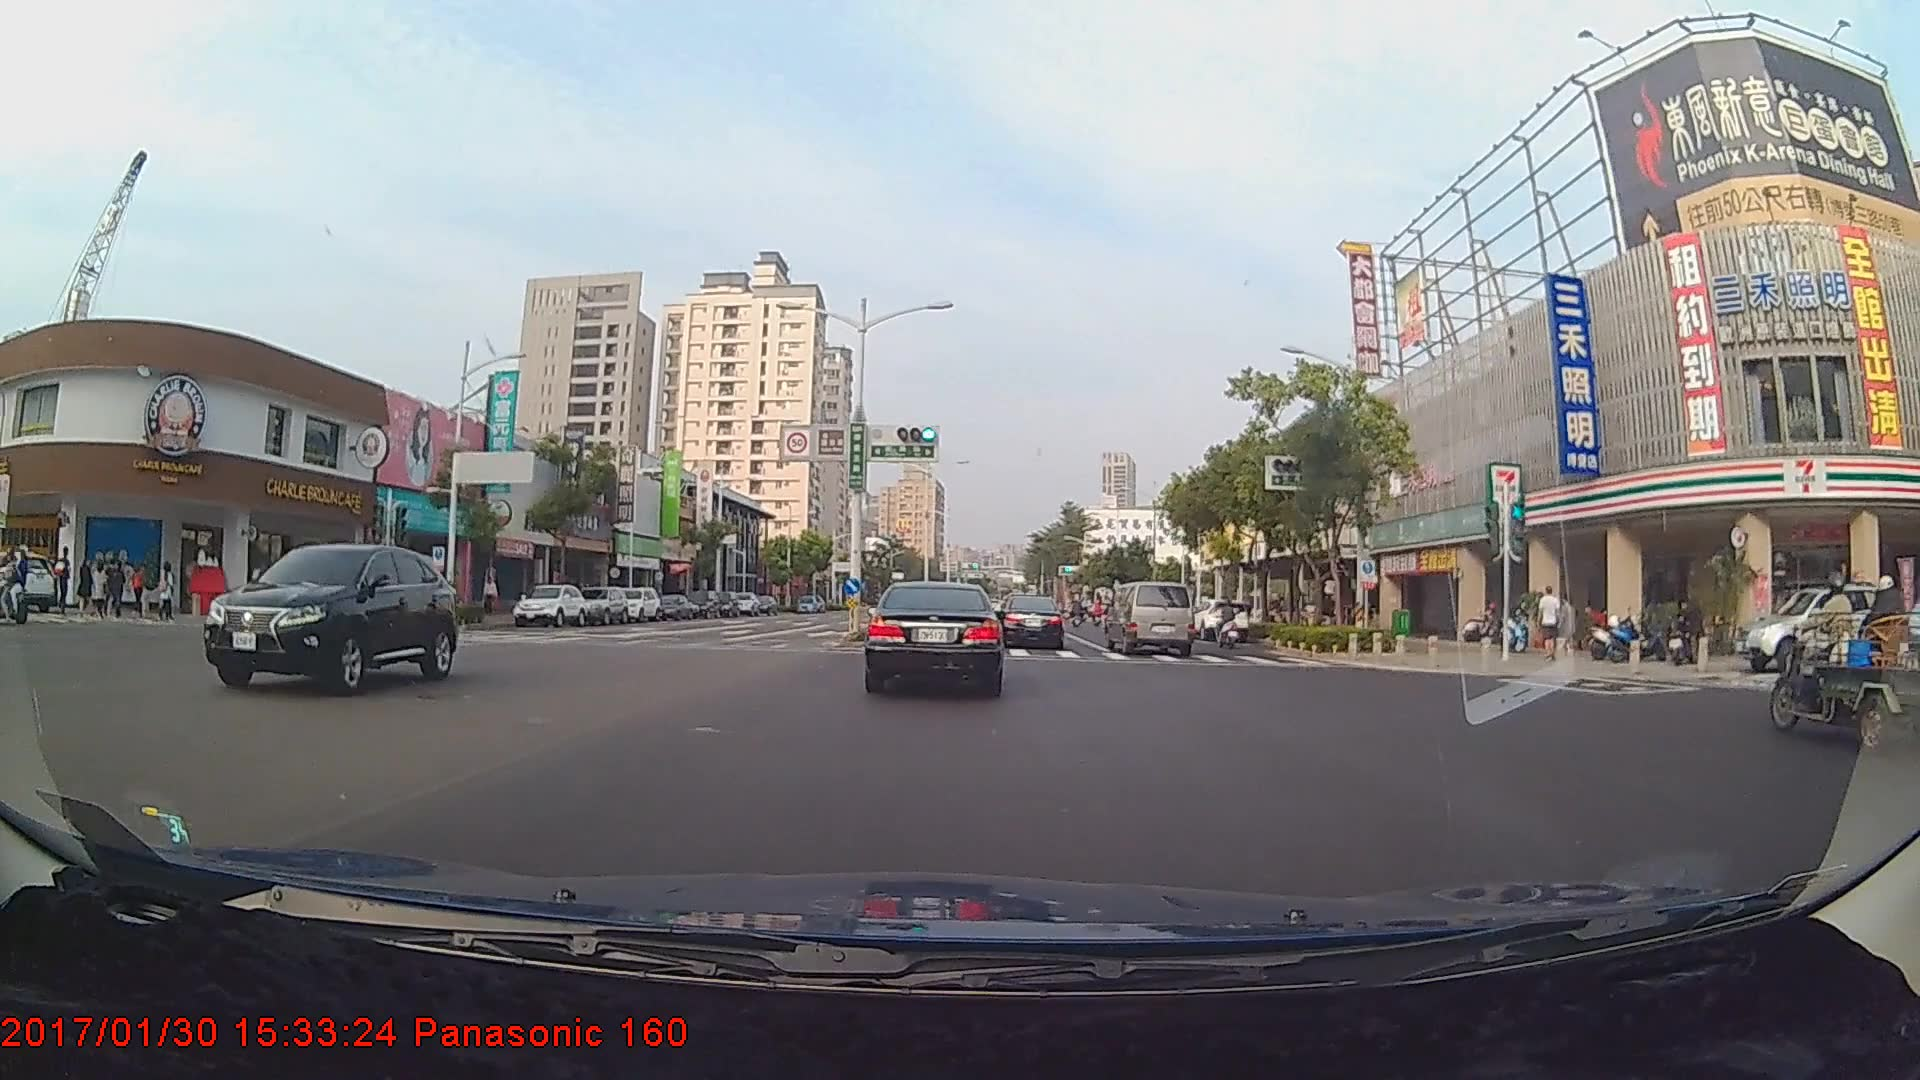pedestrian: (1536, 586, 1563, 658), (1559, 596, 1581, 666), (103, 557, 126, 620), (480, 574, 503, 619)
rider: (1, 540, 32, 631), (1211, 595, 1246, 646)
vehicle: (209, 537, 461, 692), (866, 578, 1001, 695), (1728, 583, 1887, 673), (1105, 581, 1194, 656), (509, 582, 588, 628), (997, 597, 1065, 650), (1192, 595, 1252, 640), (575, 585, 628, 624), (613, 586, 663, 623), (652, 592, 694, 620)
